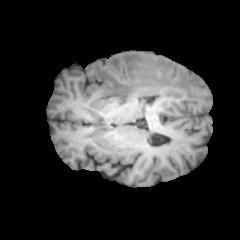glioma: (95, 53, 200, 108)
